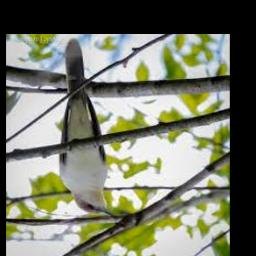Cuckoo: (60, 39, 115, 216)
